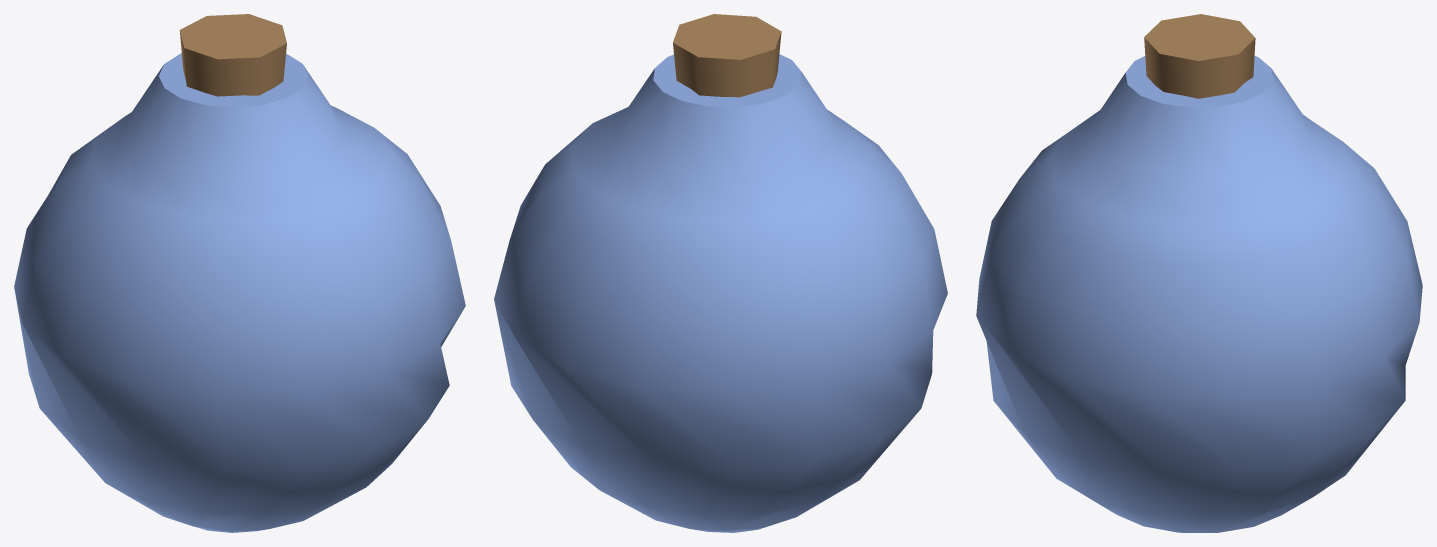
The model's file is Potion_Circle_Red.fbx.
3 renders of one model, left to right at view 1: azimuth 30°, elevation 25°; view 2: azimuth 150°, elevation 25°; view 3: azimuth 270°, elevation 25°, orthographic.
Parts seen in each view (by area): view 1: Circle_Bottle, Circle_Cork; view 2: Circle_Bottle, Circle_Cork; view 3: Circle_Bottle, Circle_Cork.
Part boxes in pixels (box(x1,y1,x2,y2)): Circle_Bottle: box(14, 53, 465, 532); Circle_Cork: box(179, 14, 286, 96); Circle_Bottle: box(494, 54, 947, 532); Circle_Cork: box(673, 14, 781, 97); Circle_Bottle: box(976, 56, 1422, 532); Circle_Cork: box(1144, 14, 1255, 98).
Bounding box in the file's own units: 0.338 × 0.3903 × 0.338.
